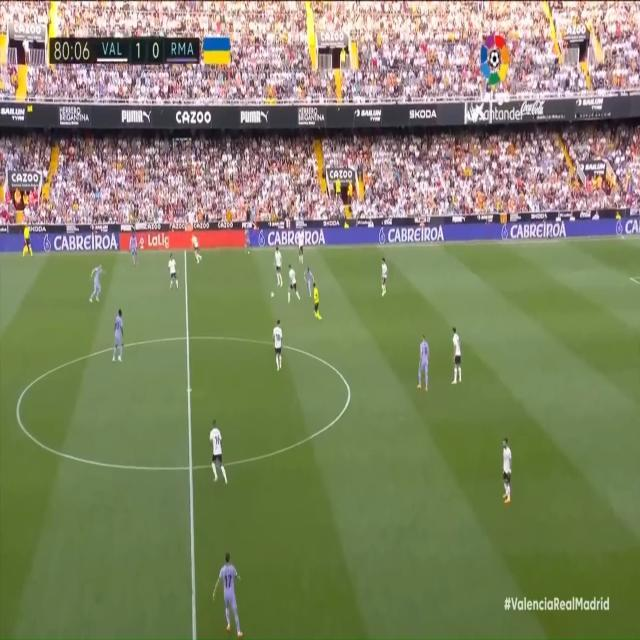ball: (269, 289, 276, 299)
player: (219, 550, 246, 640), (208, 417, 230, 488), (498, 433, 515, 505), (416, 331, 432, 399), (450, 325, 465, 389), (110, 307, 126, 364), (89, 261, 106, 307), (273, 318, 286, 373), (167, 249, 182, 295), (286, 264, 301, 305), (189, 232, 206, 266), (273, 246, 286, 288), (241, 222, 255, 261), (379, 254, 390, 301), (305, 261, 318, 300), (129, 230, 141, 271), (297, 226, 307, 263)
referee: (22, 218, 35, 260), (311, 279, 323, 321)
